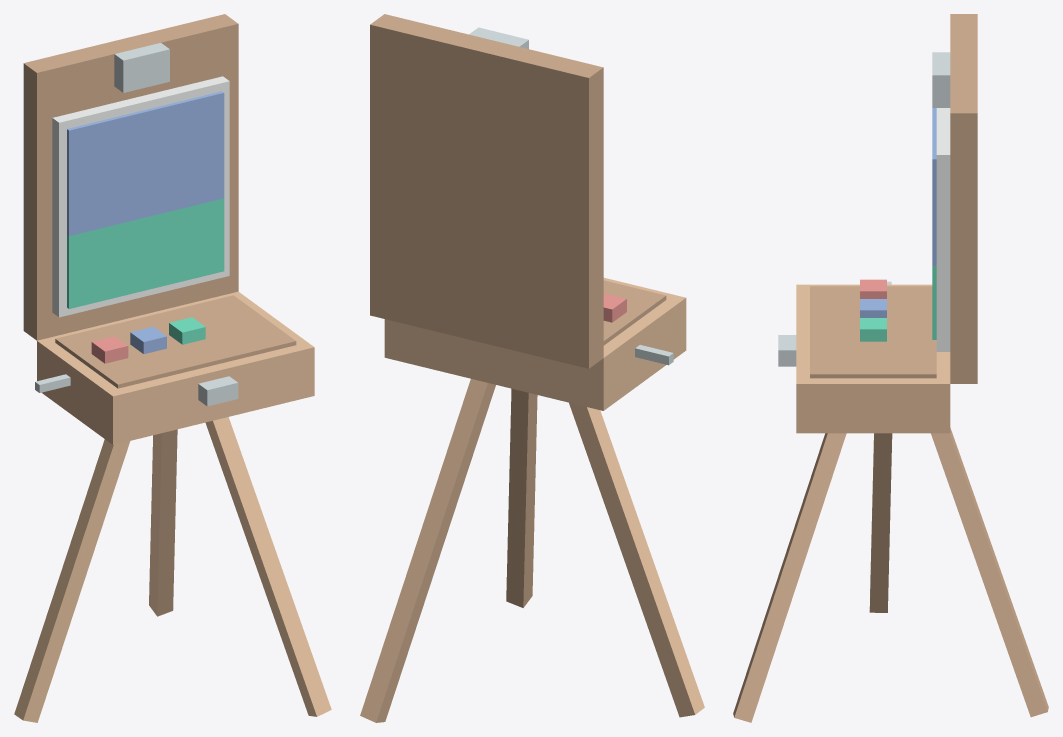
File: easelFrench.glb
3 renders of one model, left to right at view 1: azimuth 30°, elevation 25°; view 2: azimuth 150°, elevation 25°; view 3: azimuth 270°, elevation 25°, orthographic. The views are drawn at different scales.
Visible parts, largest first — view 1: easelFrench; view 2: easelFrench; view 3: easelFrench.
Part boxes in pixels (x1,y1,x2,y2): easelFrench: (14, 14, 331, 722); easelFrench: (360, 14, 704, 722); easelFrench: (733, 14, 1048, 722).
Size of the model in its own units: 0.3291 by 0.755 by 0.3488.
